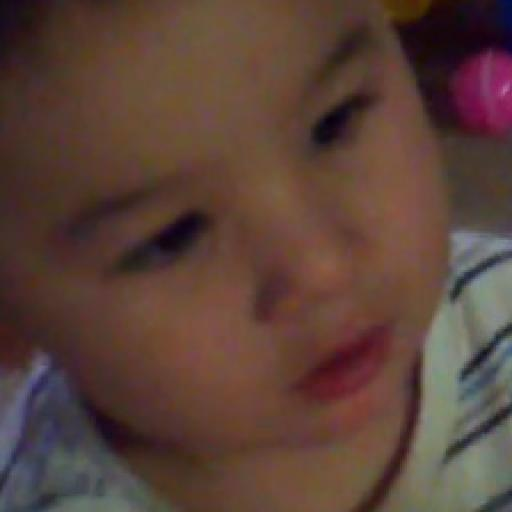Autism: (7, 7, 512, 493)
